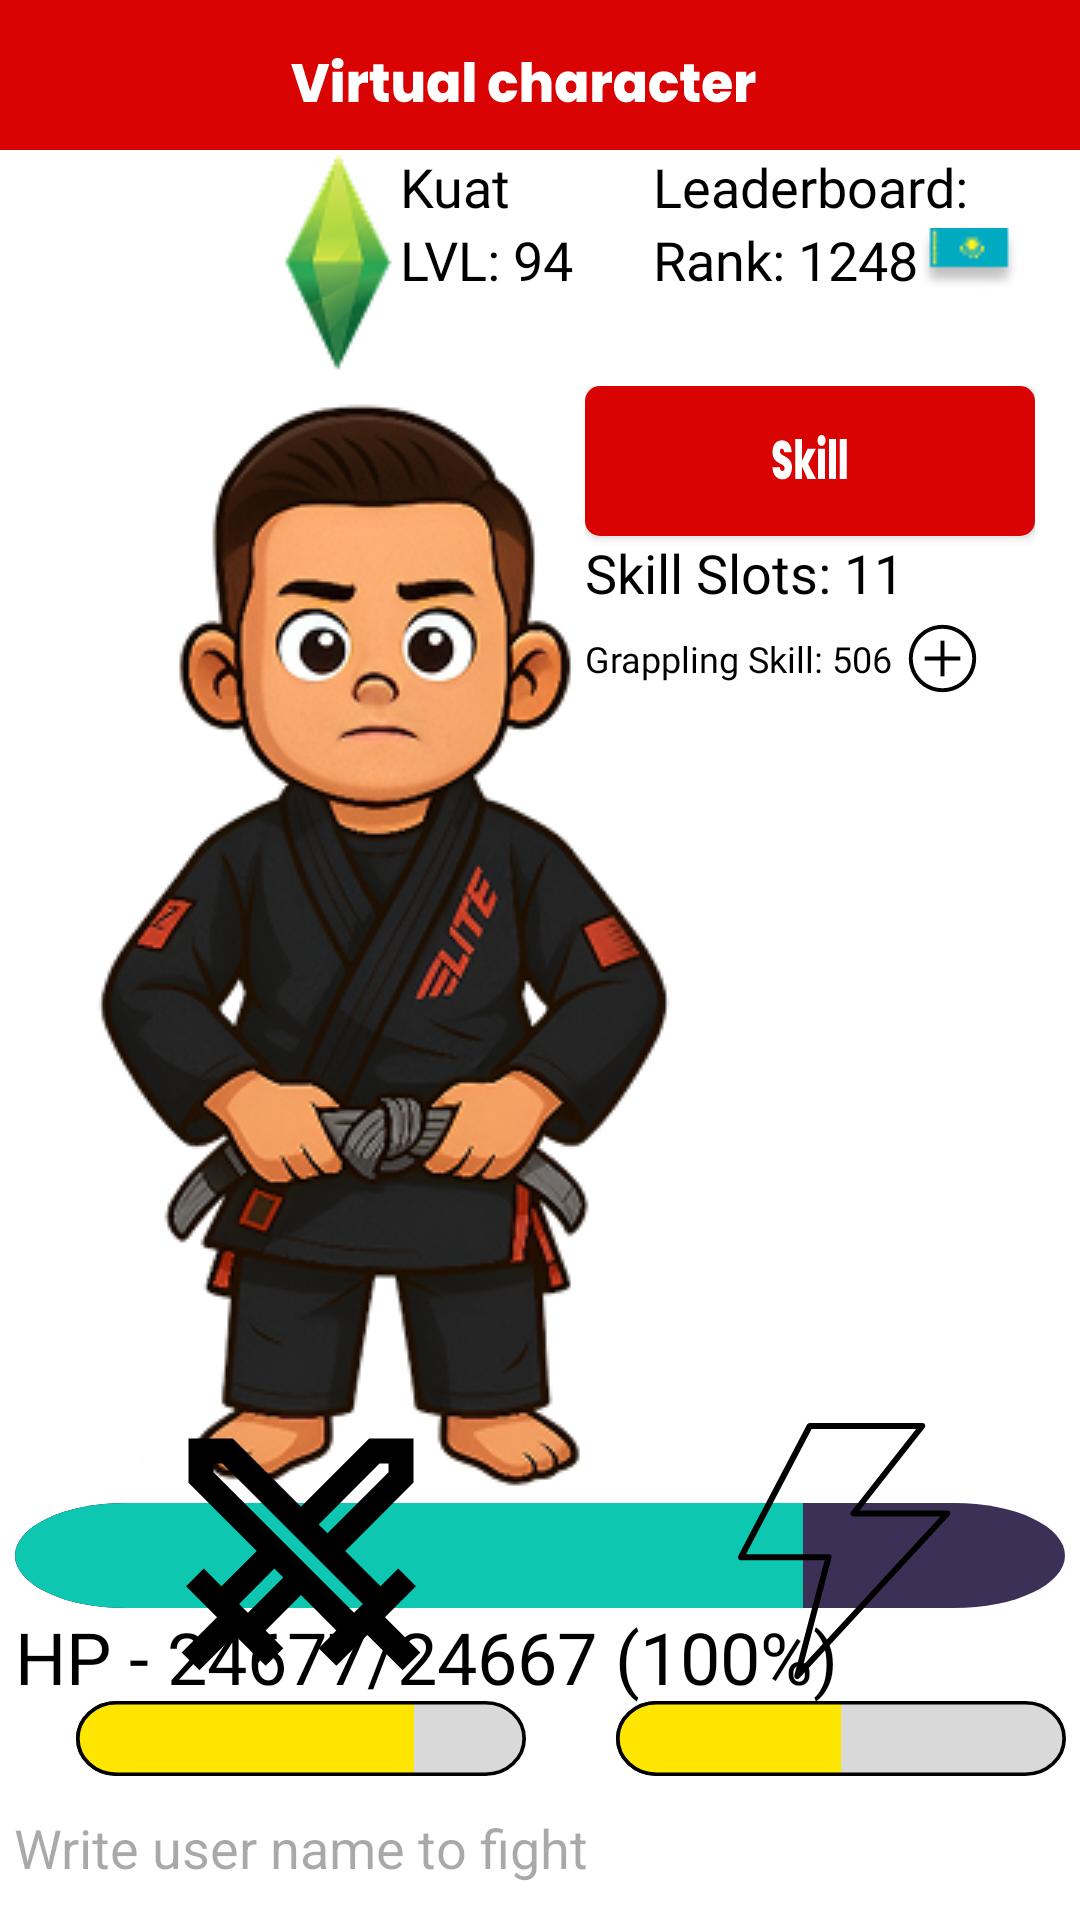

Icons on this 1080 × 1920 Android screen, each with the point to tap as [x,y]:
energy: [841,1551]
plus: [942,658]
